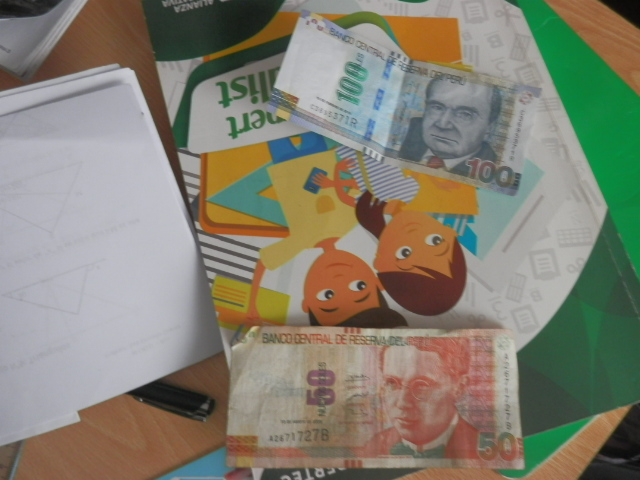B100: (270, 10, 550, 211)
B50: (224, 321, 529, 471)
